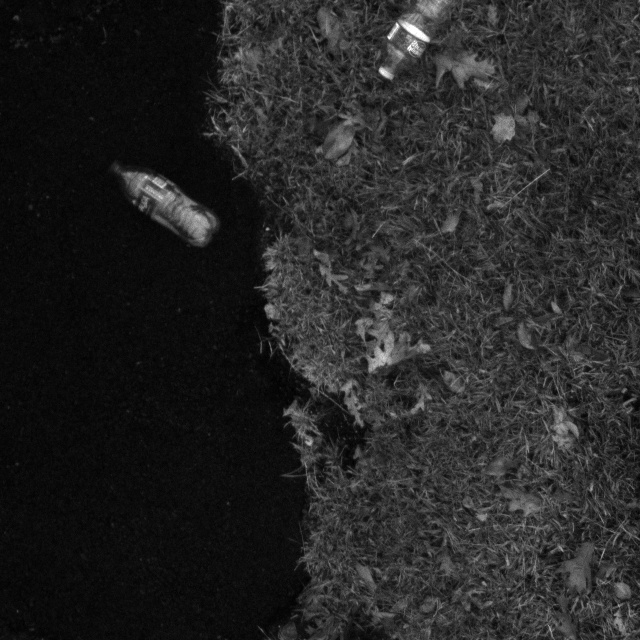bottle: (106, 158, 223, 249), (362, 0, 462, 87)
